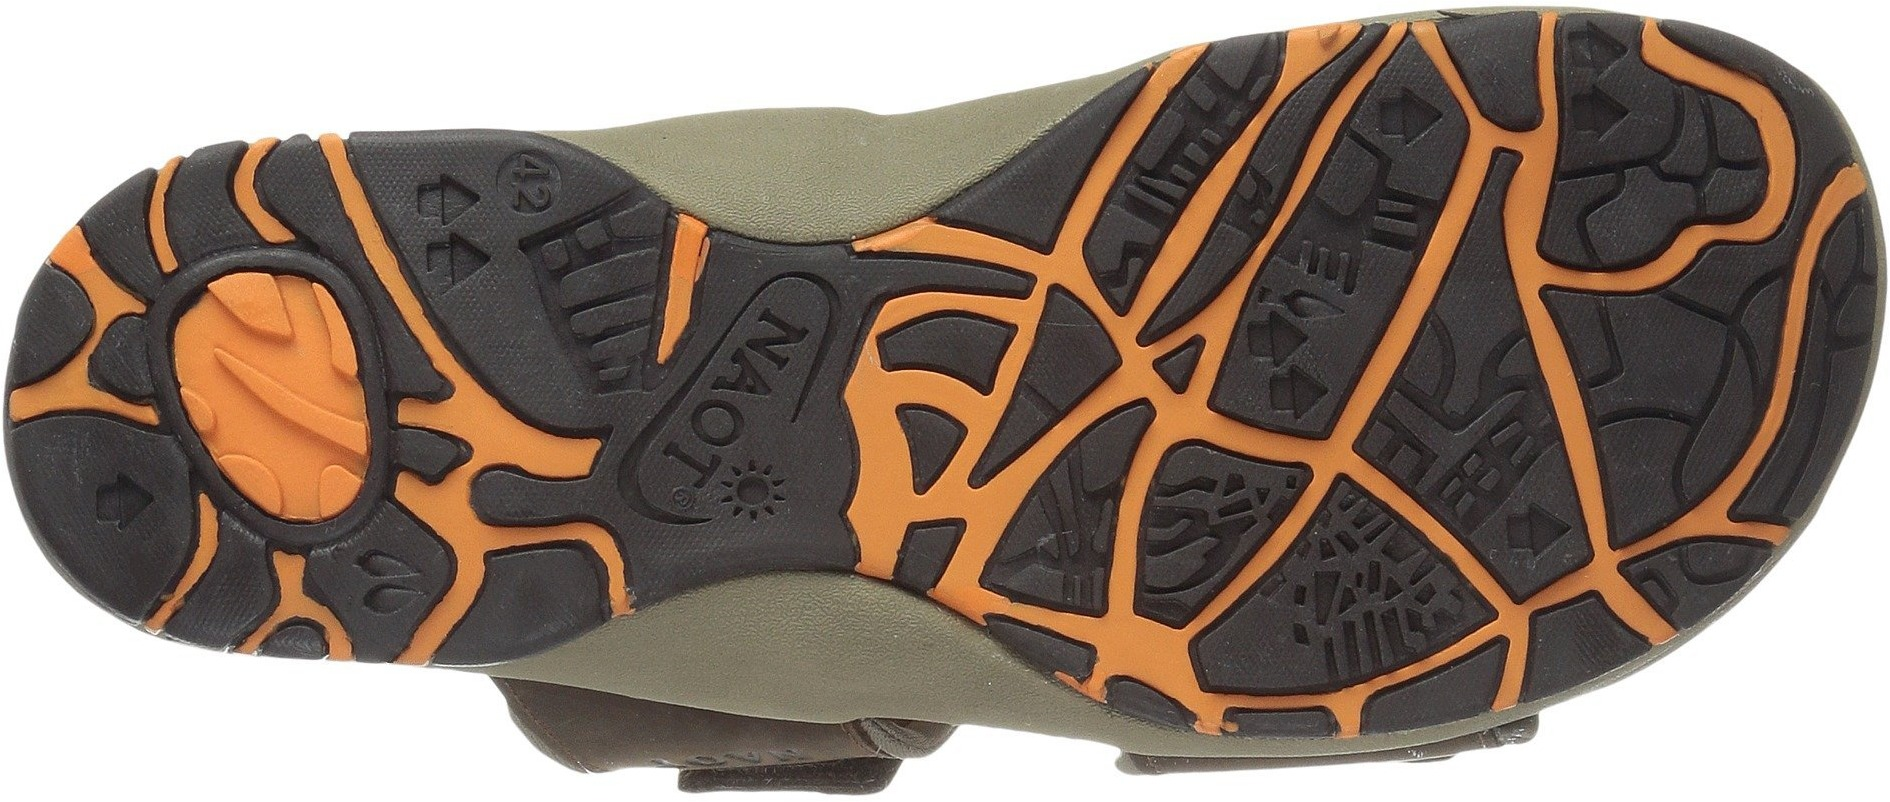circle: (133, 245, 418, 551), (483, 139, 580, 215)
line: (133, 245, 418, 551), (1298, 552, 1440, 685), (1133, 69, 1264, 207), (389, 159, 503, 299), (1356, 409, 1489, 523), (1471, 309, 1567, 400)
other: (1060, 14, 1741, 709)
quad: (133, 245, 418, 551), (513, 219, 674, 386), (1298, 552, 1440, 685), (1133, 69, 1264, 207), (389, 159, 503, 299), (1356, 409, 1489, 523), (1232, 309, 1352, 433), (1552, 21, 1662, 154), (64, 457, 160, 561), (1493, 491, 1591, 575), (1361, 68, 1450, 156), (1358, 174, 1436, 256)
text: (483, 139, 580, 215)
triangle: (133, 245, 418, 551), (1298, 552, 1440, 685), (389, 159, 503, 299), (1232, 309, 1352, 433), (1552, 21, 1662, 154), (874, 391, 978, 508), (64, 457, 160, 561), (1471, 309, 1567, 400), (1127, 321, 1219, 411), (1493, 491, 1591, 575), (1361, 68, 1450, 156)
